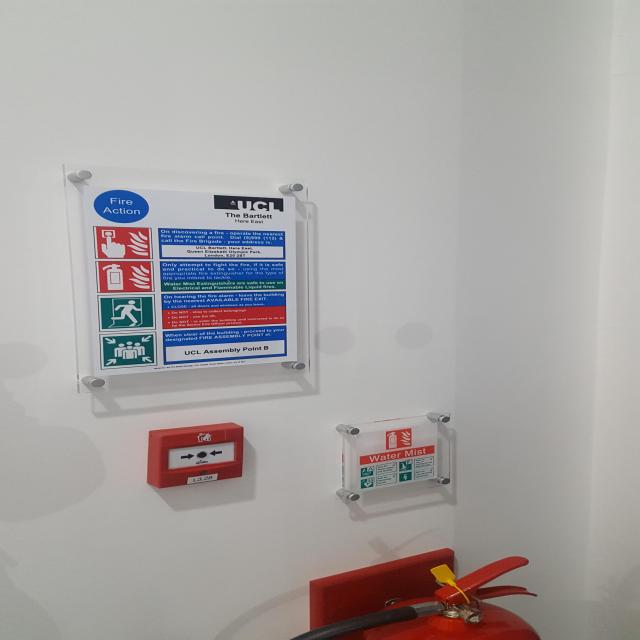fire_extinguisher: (232, 550, 550, 640)
